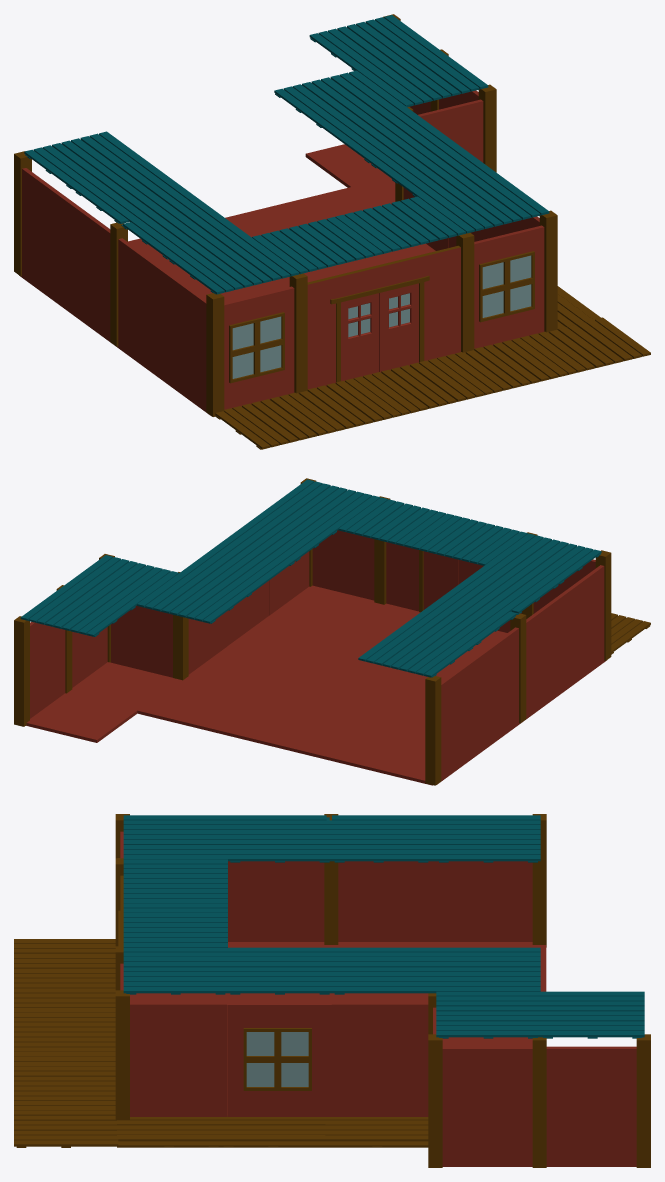
File: Env_TradingPost.fbx
The picture shows the model from 3 angles, top to bottom: view 1: azimuth 30°, elevation 25°; view 2: azimuth 150°, elevation 25°; view 3: azimuth 270°, elevation 25°; orthographic projection. The views are drawn at different scales.
Parts seen in each view (by area): view 1: Wall_Doorframe_Master_Copy3, pCube645, Wall_Standard_Master_Copy29, Wall_Standard_Master_Copy31, Wall_Standard_Master_Copy28, Wall_Standard_Master_Copy30, Wall, Wall5, Window, Window5, pCube26, pCube24 (+8 smaller); view 2: pCube645, Wall_Standard_Master_Copy28, Wall_Standard_Master_Copy30, Wall_Standard_Master_Copy29, Wall_Standard_Master_Copy31, Wall_Standard_Master_Copy26, Wall5, Wall_Standard_Master_Copy32, Wall_Doorframe_Master_Copy3, Wood_Pillar_OneStorey_Master_Copy26, Wood_Pillar_OneStorey_Master_Copy19, Wall_Standard_Master_Copy25 (+10 smaller); view 3: Wall_Standard_Master_Copy25, Wall_Standard_Master_Copy24, Wall_Standard_Master_Copy27, Wall_Standard_Master_Copy32, Wall_Standard_Master_Copy31, Wall_Standard_Master_Copy30, Wall_Standard_Master_Copy29, Wall6, pCube645, Window6, Wood_Pillar_OneStorey_Master_Copy18, Wood_Pillar_OneStorey_Master_Copy19 (+170 smaller).
Part boxes in pixels (box(x1,y1,x2,y2)): Wall_Doorframe_Master_Copy3: box(307, 245, 460, 389); pCube645: box(128, 144, 435, 302); Wall_Standard_Master_Copy29: box(115, 238, 166, 380); Wall_Standard_Master_Copy31: box(19, 168, 70, 310); Wall_Standard_Master_Copy28: box(163, 271, 211, 416); Wall_Standard_Master_Copy30: box(67, 200, 114, 345); Wall: box(224, 286, 294, 409); Wall5: box(474, 225, 544, 348); Window: box(229, 312, 284, 383); Window5: box(479, 251, 534, 322); pCube26: box(379, 283, 418, 372); pCube24: box(341, 293, 379, 381); pCube645: box(26, 585, 507, 785); Wall_Standard_Master_Copy28: box(561, 565, 606, 690); Wall_Standard_Master_Copy30: box(476, 627, 521, 753); Wall_Standard_Master_Copy29: box(522, 594, 564, 722); Wall_Standard_Master_Copy31: box(437, 656, 479, 784); Wall_Standard_Master_Copy26: box(111, 605, 172, 677); Wall5: box(312, 530, 374, 600); Wall_Standard_Master_Copy32: box(30, 622, 65, 718); Wall_Doorframe_Master_Copy3: box(386, 542, 521, 632); Wood_Pillar_OneStorey_Master_Copy26: box(425, 676, 441, 785); Wood_Pillar_OneStorey_Master_Copy19: box(14, 616, 29, 726); Wall_Standard_Master_Copy25: box(188, 611, 226, 674); Wall_Standard_Master_Copy25: box(331, 1002, 428, 1116); Wall_Standard_Master_Copy24: box(130, 1002, 226, 1116); Wall_Standard_Master_Copy27: box(442, 1046, 532, 1166); Wall_Standard_Master_Copy32: box(546, 1046, 636, 1166); Wall_Standard_Master_Copy31: box(435, 861, 532, 941); Wall_Standard_Master_Copy30: box(338, 861, 435, 941); Wall_Standard_Master_Copy29: box(228, 861, 324, 941); Wall6: box(227, 1002, 331, 1116); pCube645: box(130, 942, 546, 1114); Window6: box(243, 1028, 311, 1090); Wood_Pillar_OneStorey_Master_Copy18: box(428, 1034, 442, 1167); Wood_Pillar_OneStorey_Master_Copy19: box(636, 1034, 650, 1167).
Size of the model in its own units: 1027 by 282 by 1223.
